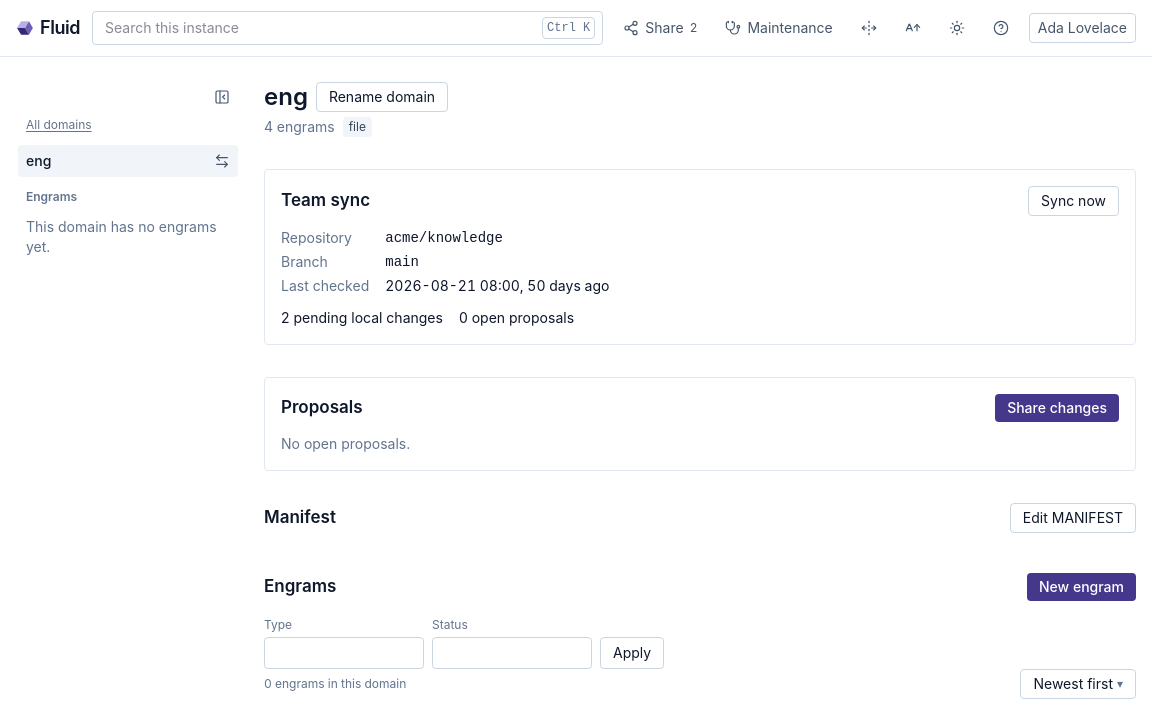
Test: the top bar's share action › shares the domain being read, without asking which one
Step 1. Click the button with aria-label "Share changes" → (660, 28), box [615,12,705,44]
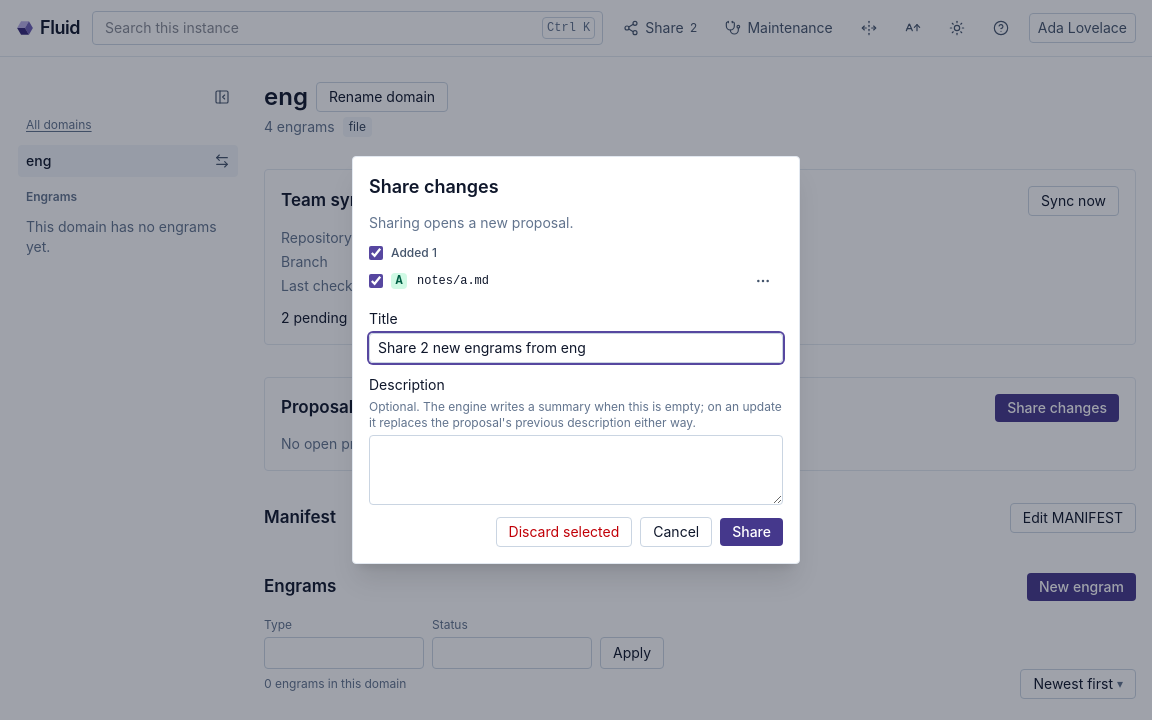
Check: the text "Sharing opens a new proposal." is shown, box [369,214,574,231]
